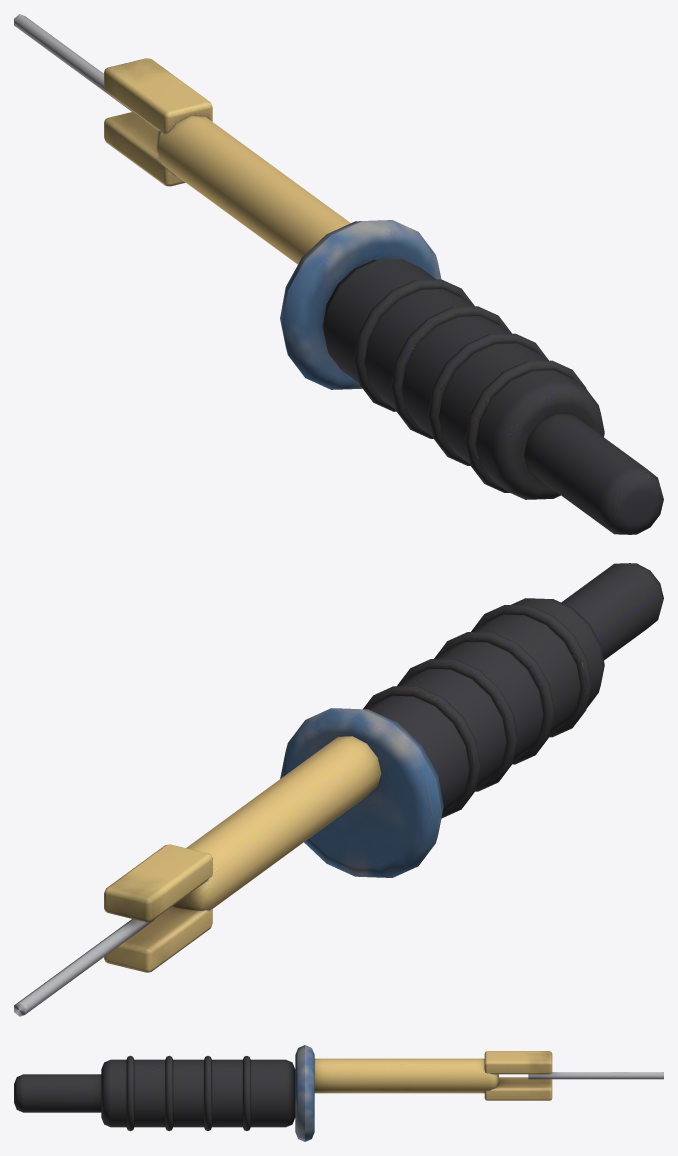
File: welder_torch.glb
The picture shows the model from 3 angles, top to bottom: view 1: azimuth 30°, elevation 25°; view 2: azimuth 150°, elevation 25°; view 3: azimuth 270°, elevation 25°; orthographic projection. The views are drawn at different scales.
Visible parts, largest first — view 1: WelderTorch; view 2: WelderTorch; view 3: WelderTorch.
Boxes of the visible parts, x1=… form: WelderTorch: x1=14, y1=14, x2=663, y2=534; WelderTorch: x1=14, y1=563, x2=663, y2=1016; WelderTorch: x1=14, y1=1045, x2=663, y2=1141.
Bounding box in the file's own units: 0.1 × 0.1 × 0.67.
Materials: 4 (4 with a texture image).
